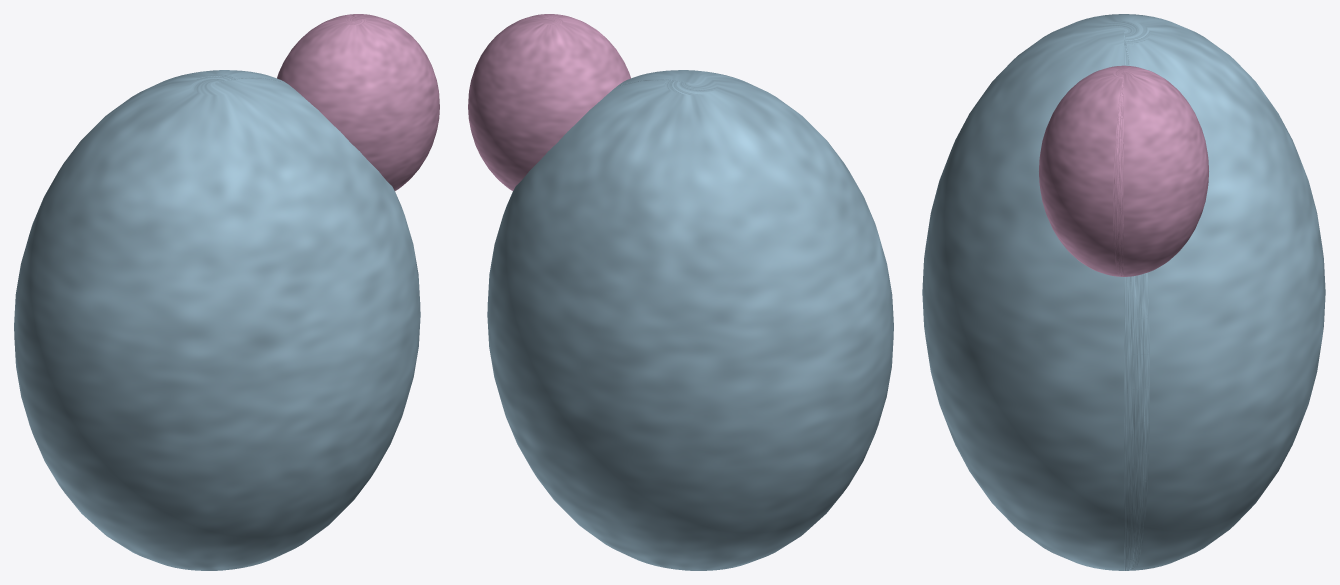
The model's file is complete.glb.
3 renders of one model, left to right at view 1: azimuth 30°, elevation 25°; view 2: azimuth 150°, elevation 25°; view 3: azimuth 270°, elevation 25°, orthographic. The views are drawn at different scales.
Parts seen in each view (by area): view 1: capsula_mesh, broto_mesh; view 2: capsula_mesh, broto_mesh; view 3: capsula_mesh, broto_mesh.
Boxes of the visible parts, <box> form: capsula_mesh: <box>14,70,420,570</box>; broto_mesh: <box>277,14,439,190</box>; capsula_mesh: <box>487,70,893,570</box>; broto_mesh: <box>468,14,630,190</box>; capsula_mesh: <box>922,14,1325,570</box>; broto_mesh: <box>1039,65,1208,276</box>.
Size of the model in its own units: 2 by 2.44 by 1.61.
7 materials, 7 textured.
